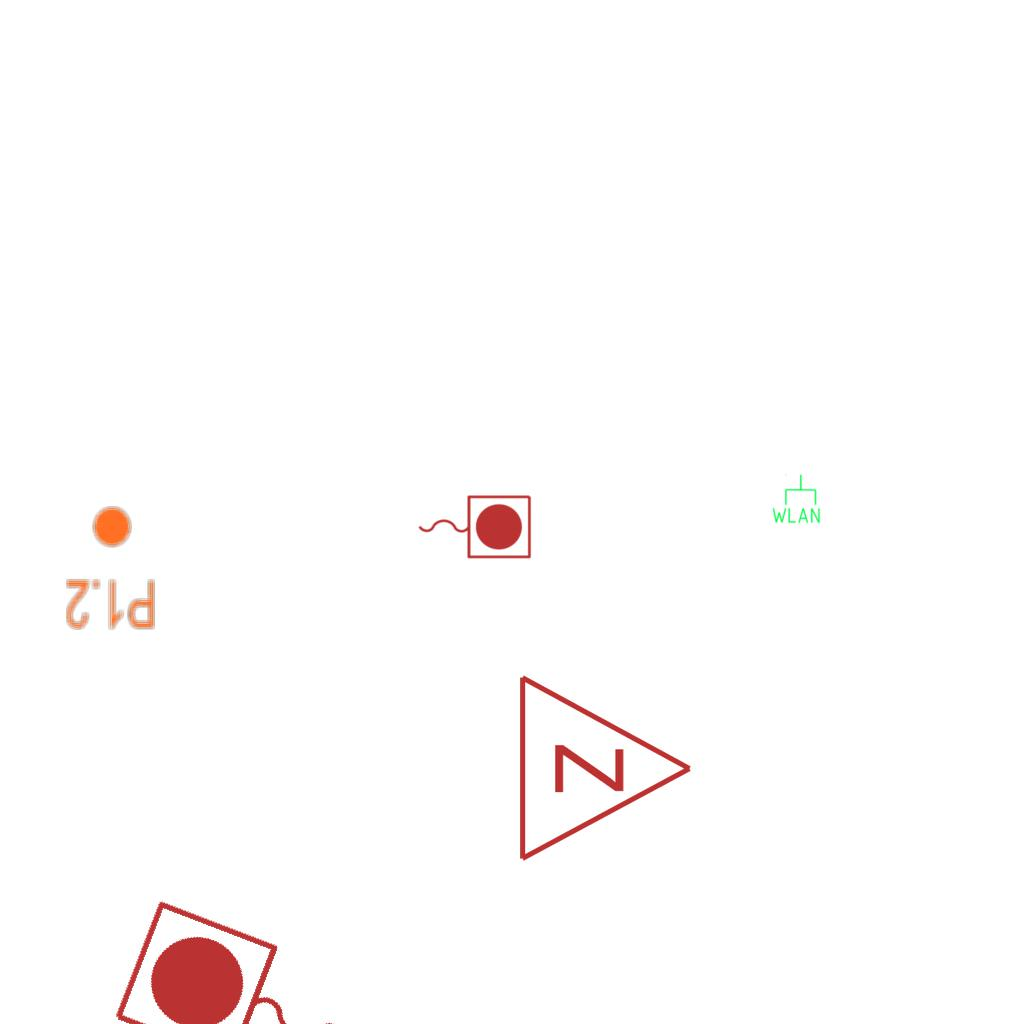Downlight_LED_Einbauleuchten_Flur: (64, 504, 157, 632)
WLAN: (770, 473, 822, 525)
Zimmersignalleuchte: (505, 668, 705, 864)
Zugtaster: (103, 891, 383, 1024), (413, 490, 535, 562)
